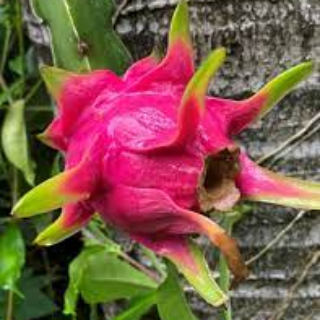thanh_long: (52, 56, 259, 263)
